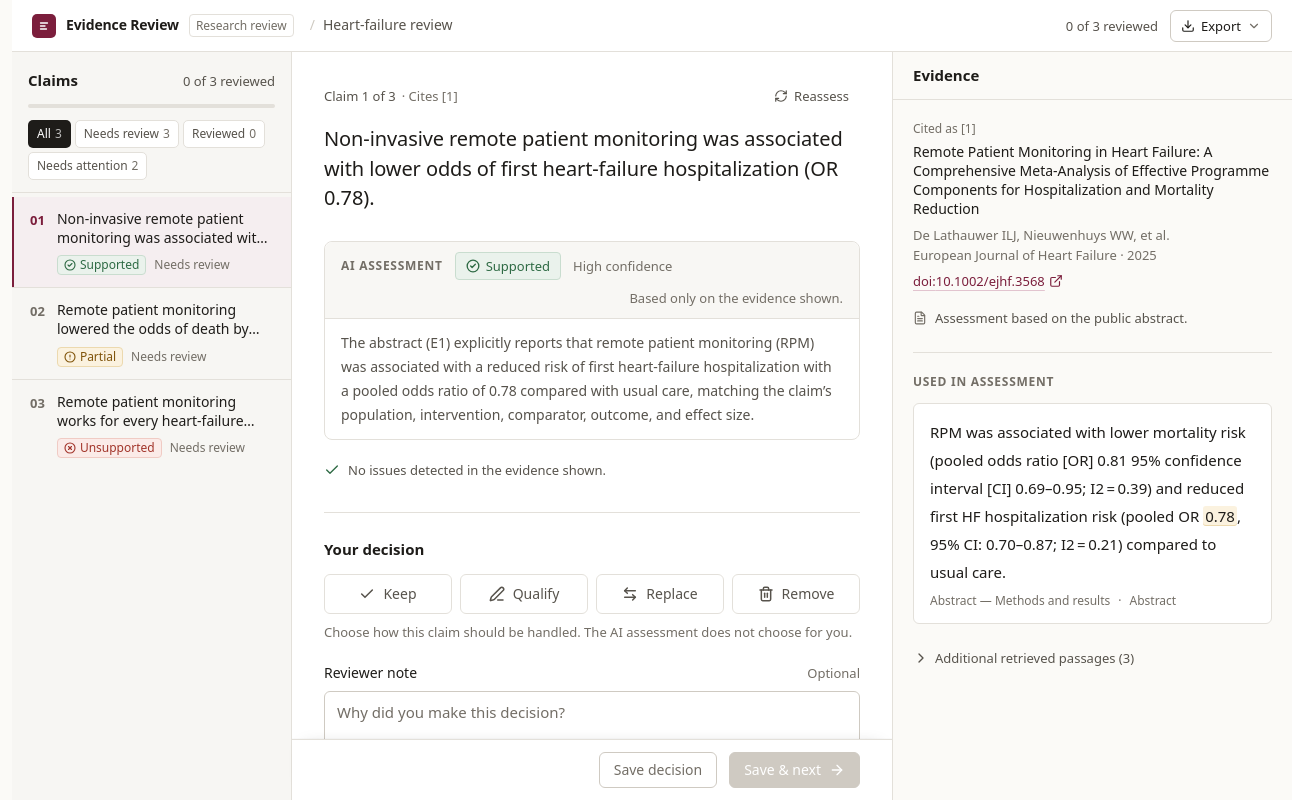
Review workspace — decisions › Save waits for the server, then shows the claim as reviewed and updates progress
Expected: the heading "Claim 1 of 3" is shown, [324,86,396,106]
Click the radio button labelled "Keep" at {"x": 388, "y": 594}, box [324,574,452,614]
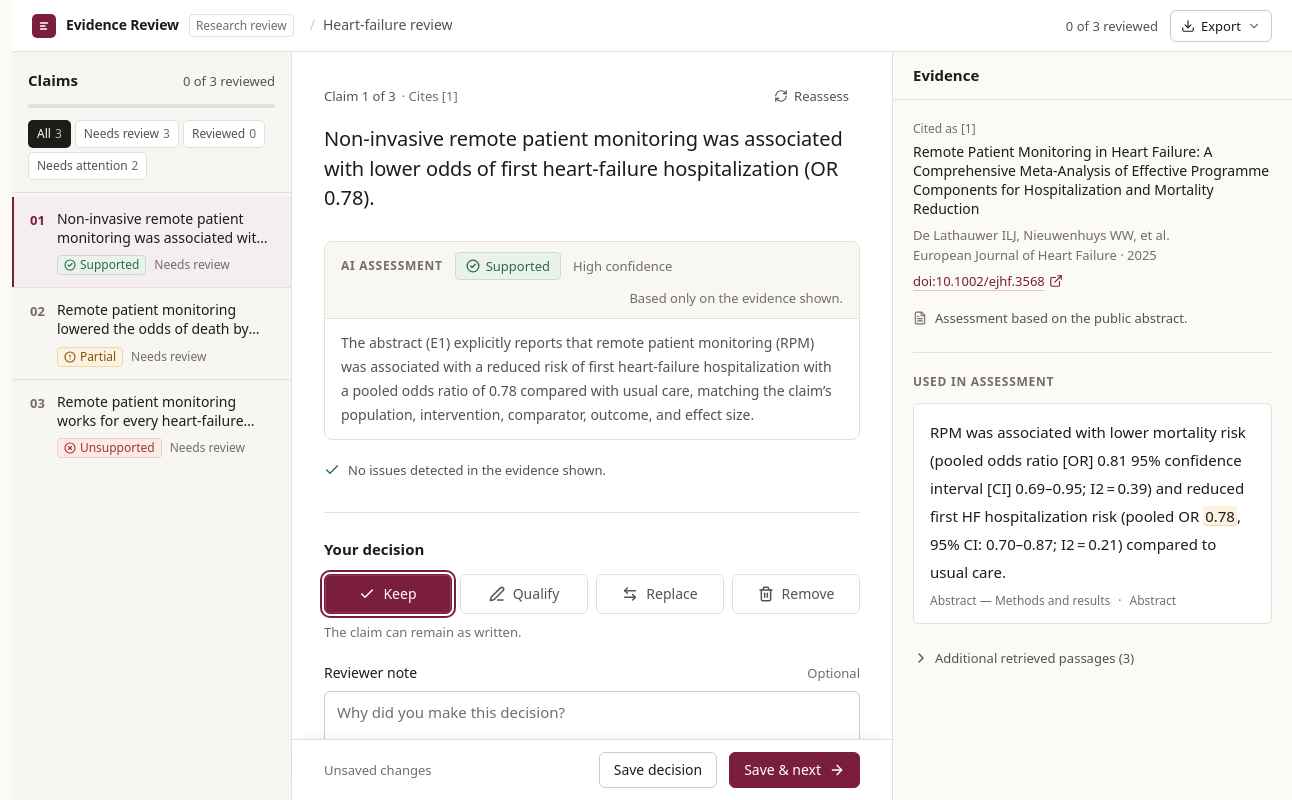
Type "Matches the abstract." into the text box labelled "Reviewer note Optional" at {"x": 592, "y": 736}, box [324,691,860,781]
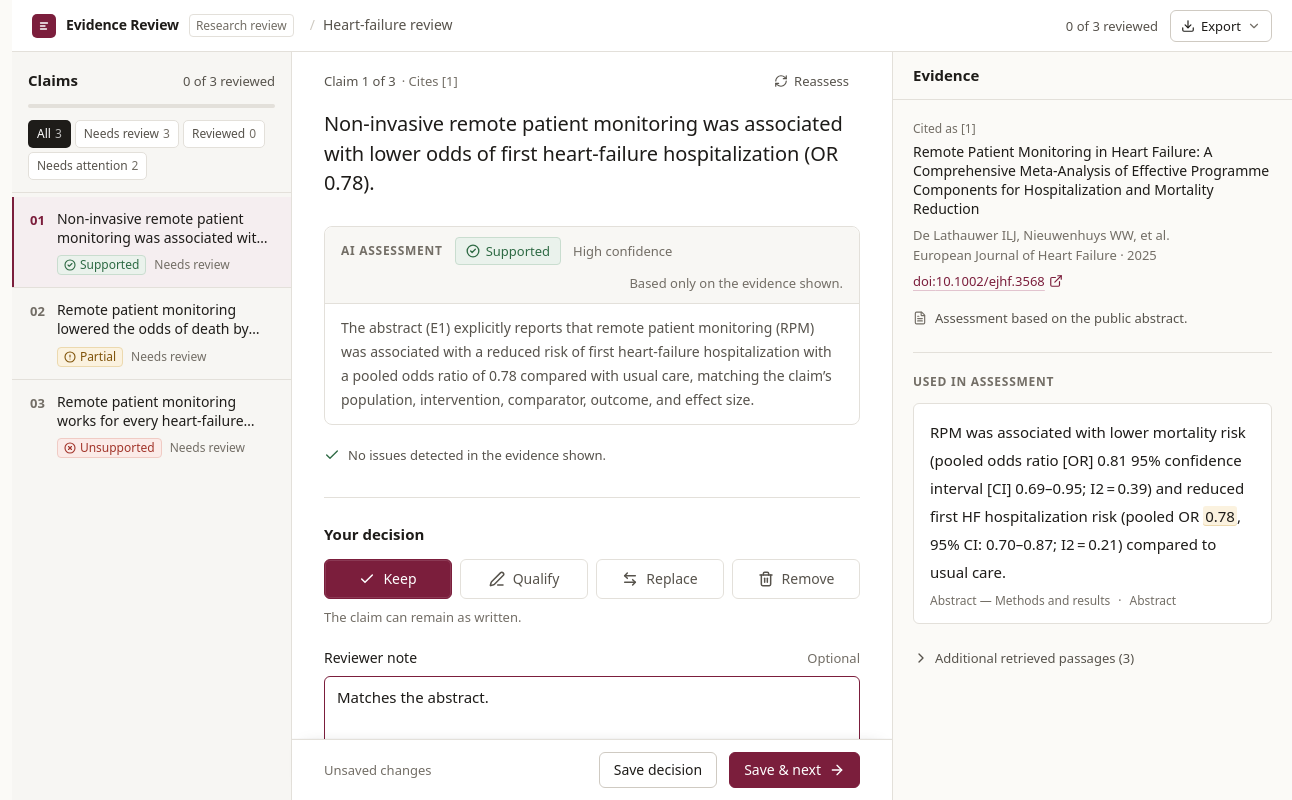
Click the button "Save decision" at {"x": 658, "y": 770}, box [599,752,717,788]
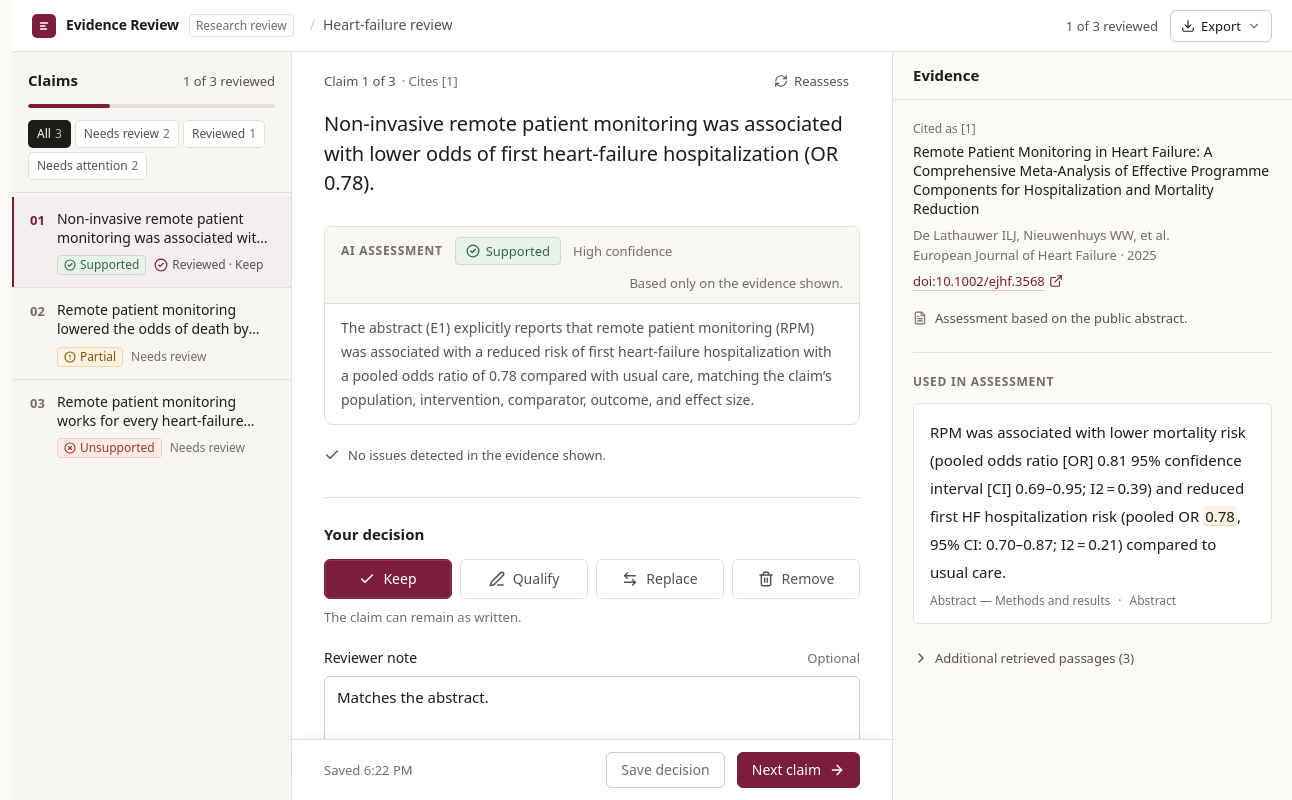
Expected: the text "Saved 6:22 PM" is shown, [324,760,413,780]
Expected: the text "Reviewed · Keep" is shown, [154,256,263,274]
Expected: the text "1 of 3 reviewed" next to "Claims" is shown, [183,71,275,91]
